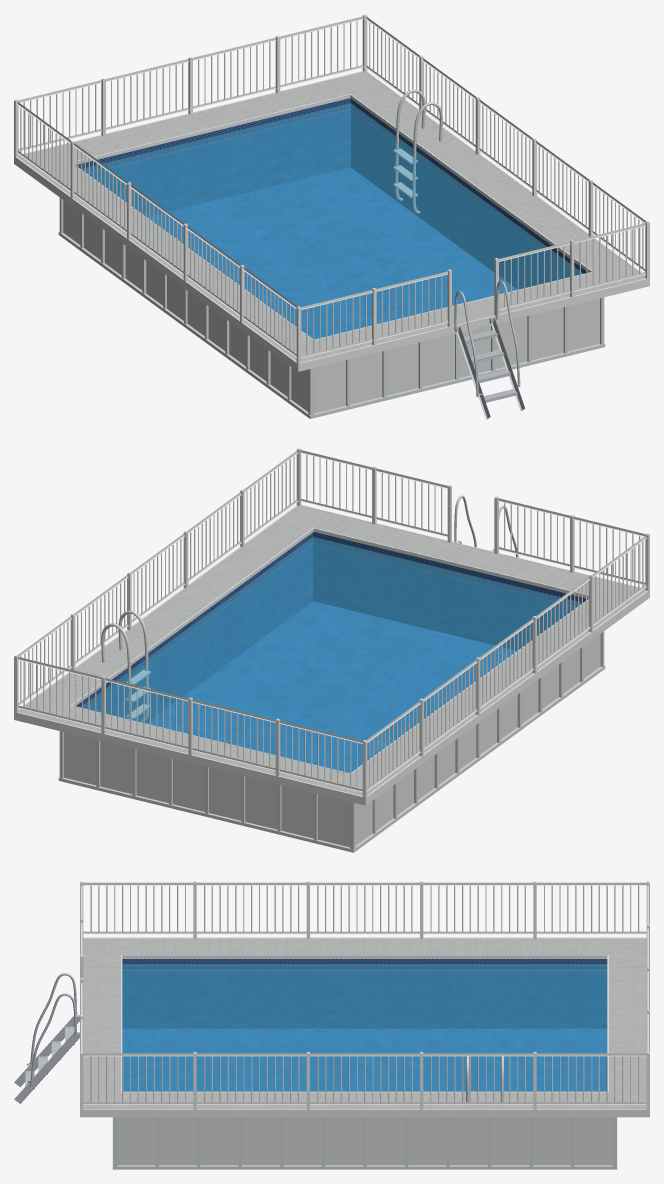
Rendered from kayak-pool-16x24-white-walk-ag-fence.c37a608641.glb.
3 renders of one model, top to bottom at view 1: azimuth 30°, elevation 25°; view 2: azimuth 150°, elevation 25°; view 3: azimuth 270°, elevation 25°, orthographic.
Visible parts, largest first — view 1: water, fence, liner_floor, liner_wall, deck, wall, fascia, upright, ladder, steel; view 2: water, fence, liner_floor, liner_wall, deck, wall, fascia, upright, steel; view 3: water, liner_wall, liner_floor, deck, fence, wall, fascia, upright, ladder.
Part boxes in pixels (x1,y1,x2,y2): water: (82, 103, 583, 339); fence: (14, 14, 649, 363); liner_floor: (147, 167, 516, 339); liner_wall: (75, 98, 587, 289); deck: (18, 72, 645, 362); wall: (63, 200, 599, 413); fascia: (14, 71, 649, 371); upright: (58, 197, 605, 418); ladder: (454, 280, 524, 419); steel: (393, 89, 442, 213); water: (80, 537, 581, 772); fence: (14, 448, 649, 797); liner_floor: (146, 601, 516, 773); liner_wall: (76, 532, 587, 723); deck: (18, 505, 646, 795); wall: (64, 634, 600, 847); fascia: (14, 504, 649, 805); upright: (58, 631, 605, 852); steel: (101, 610, 150, 722); water: (122, 964, 607, 1091); liner_wall: (122, 959, 607, 1028); liner_floor: (122, 1028, 607, 1091); deck: (83, 938, 646, 1108); fence: (80, 881, 649, 1109); wall: (117, 1117, 612, 1165); fascia: (80, 937, 649, 1117); upright: (112, 1117, 617, 1169); ladder: (14, 973, 79, 1103).
Size of the model in its own units: 6.1 by 2.15 by 9.52.
11 materials, 3 textured.
